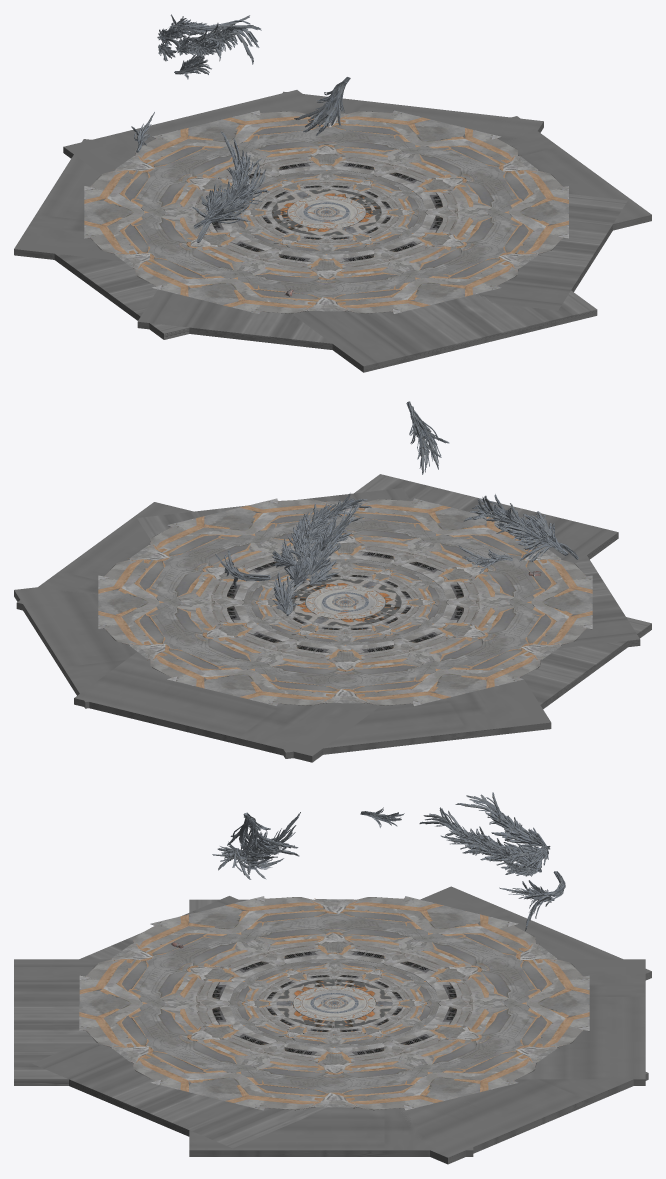
Rendered from arena_kart.glb.
3 renders of one model, top to bottom at view 1: azimuth 30°, elevation 25°; view 2: azimuth 150°, elevation 25°; view 3: azimuth 270°, elevation 25°, orthographic. The views are drawn at different scales.
Parts seen in each view (by area): view 1: arena; view 2: arena; view 3: arena.
Boxes of the visible parts, x1,y1,x2,y2 form: arena: [14, 14, 651, 372]; arena: [14, 401, 651, 762]; arena: [14, 792, 651, 1164].
Bounding box in the file's own units: 110 × 38.84 × 110.
8 materials, 8 textured.
